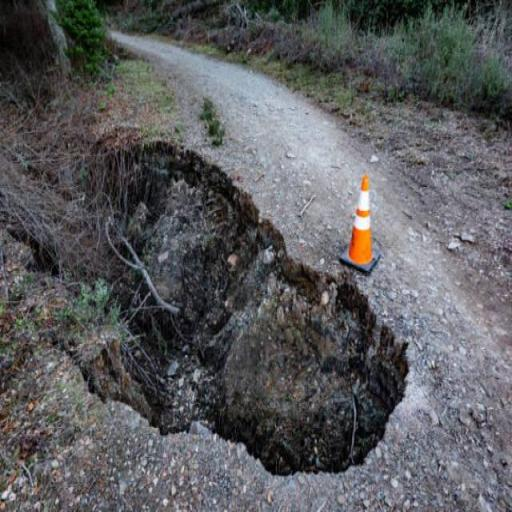Concentric_Crack: (0, 138, 408, 473)
